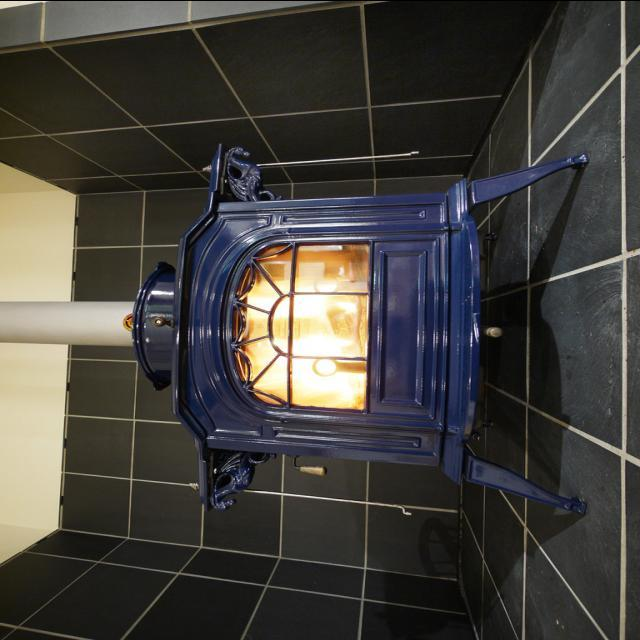Fire: (245, 243, 367, 408)
